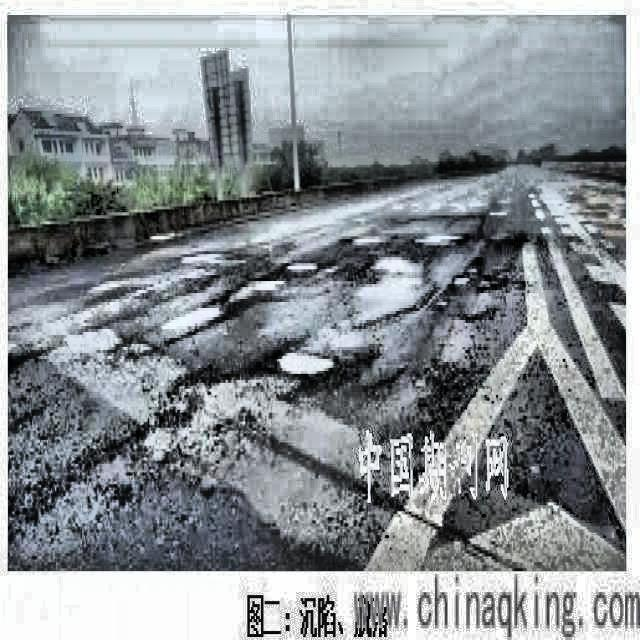buraco: (348, 245, 435, 341), (162, 299, 222, 350), (268, 341, 333, 383), (280, 251, 318, 278)
